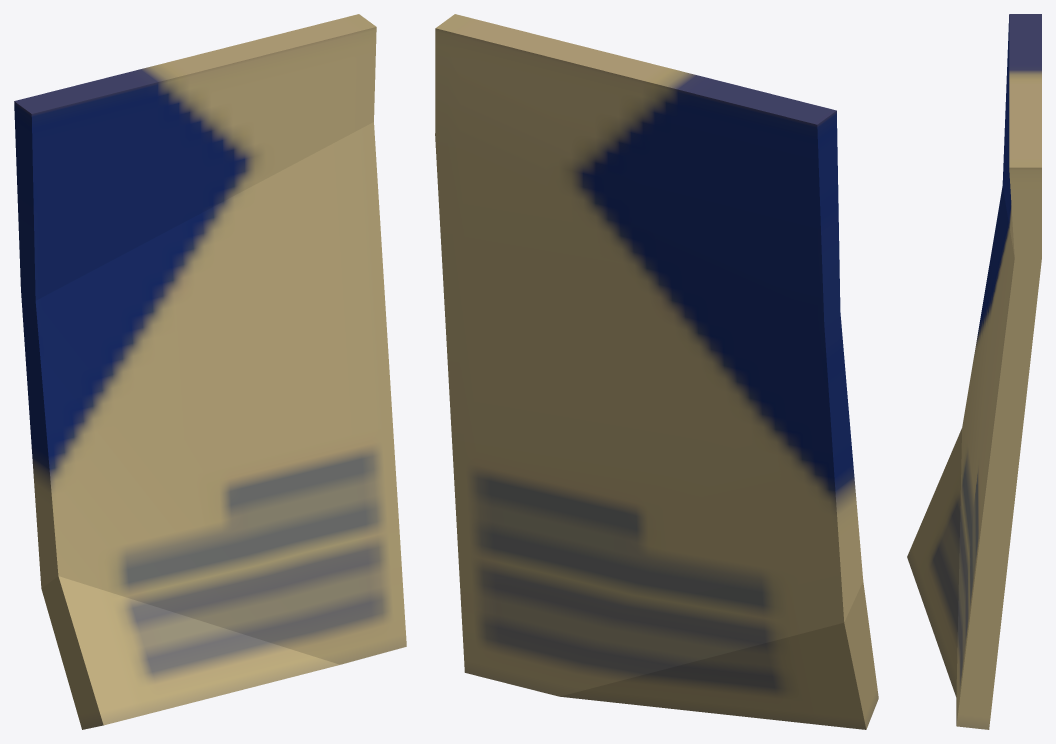
Rendered from SM_Prop_Poster_06.obj.
3 renders of one model, left to right at view 1: azimuth 30°, elevation 25°; view 2: azimuth 150°, elevation 25°; view 3: azimuth 270°, elevation 25°, orthographic. The views are drawn at different scales.
Visible parts, largest first — view 1: SM_Prop_Poster_06_0; view 2: SM_Prop_Poster_06_0; view 3: SM_Prop_Poster_06_0.
Boxes of the visible parts, <box> form: SM_Prop_Poster_06_0: <box>14,14,406,729</box>; SM_Prop_Poster_06_0: <box>435,14,878,729</box>; SM_Prop_Poster_06_0: <box>907,14,1041,729</box>.
Bounding box in the file's own units: 0.1607 × 0.2675 × 0.0582.
1 material, 1 textured.
